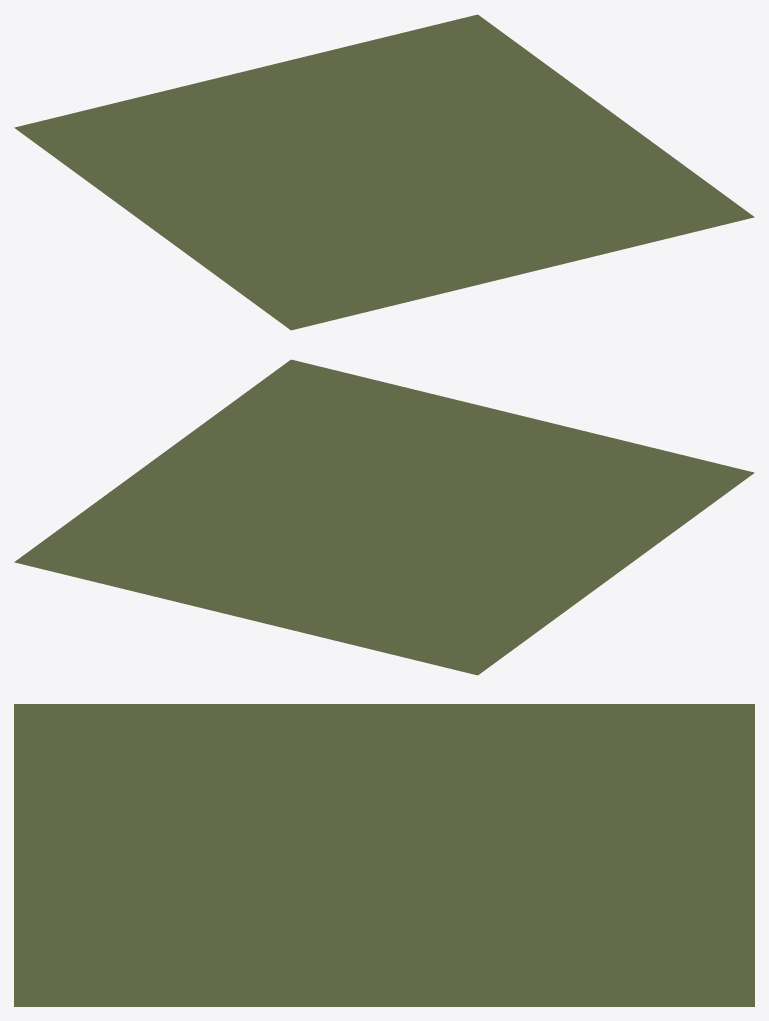
Rendered from HO SEN.fbx.
The picture shows the model from 3 angles, top to bottom: view 1: azimuth 30°, elevation 25°; view 2: azimuth 150°, elevation 25°; view 3: azimuth 270°, elevation 25°; orthographic projection. The views are drawn at different scales.
Parts seen in each view (by area): view 1: Plane; view 2: Plane; view 3: Plane.
Boxes of the visible parts, bbox=[...] form: Plane: bbox=[14, 14, 754, 330]; Plane: bbox=[14, 359, 754, 675]; Plane: bbox=[14, 704, 754, 1006].
Bounding box in the file's own units: 1765 × 0 × 1826.
